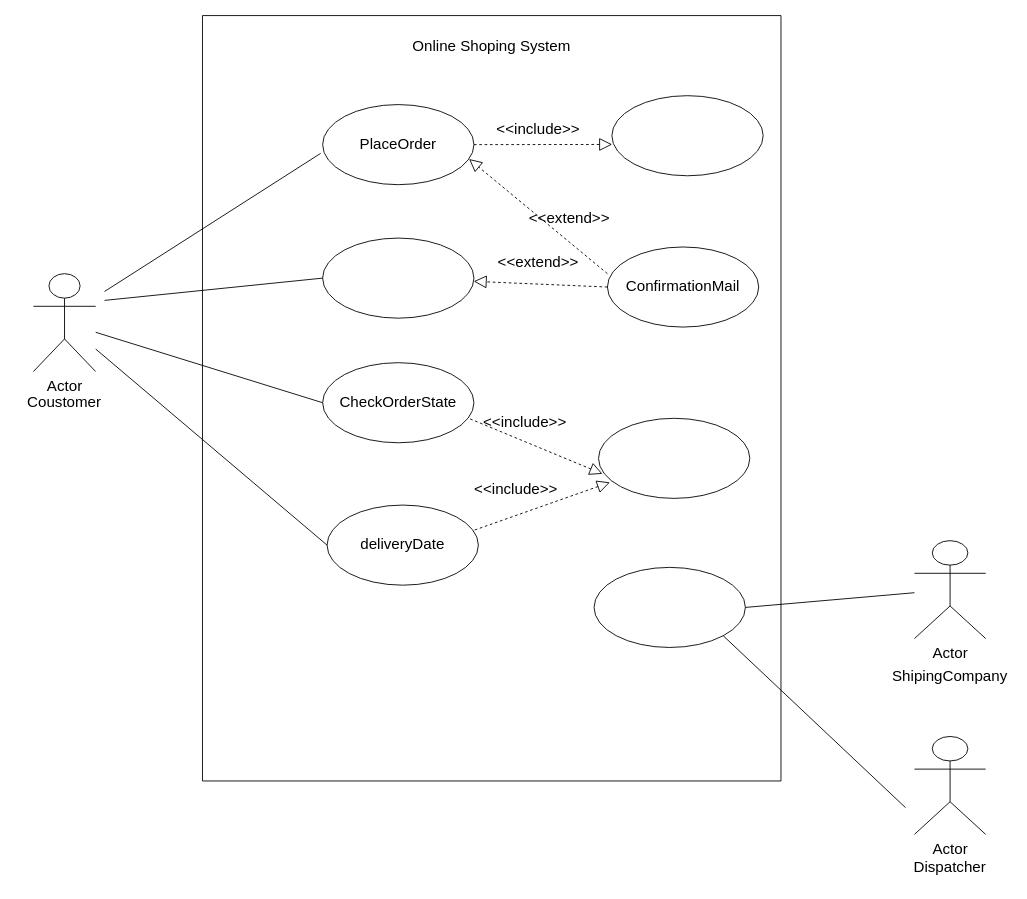
Some shapes in this 1027 by 899 pixel diagram are drawn without their labels. Here are the shapes that lost their labels. From the top down, the centre of each, then its label:
At point 687,135: "Payment".
At point 398,277: "CancleOrder".
At point 674,457: "CheckTrackingNo".
At point 669,606: "ShipProduct".
